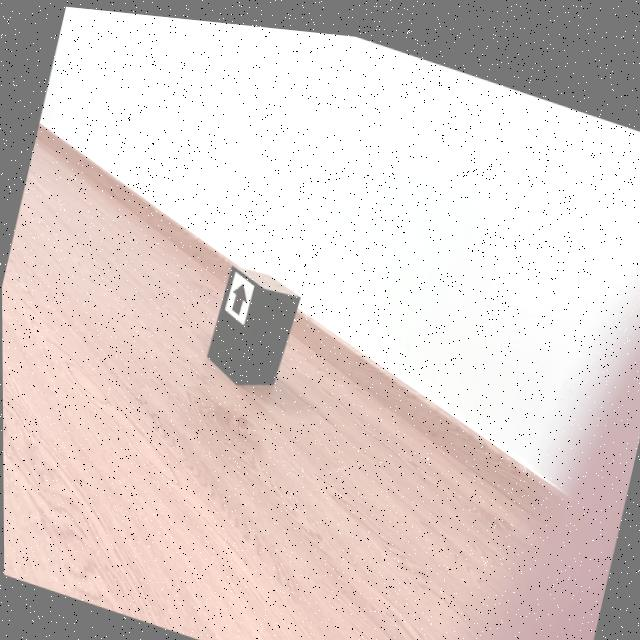UP: (231, 277, 246, 310)
